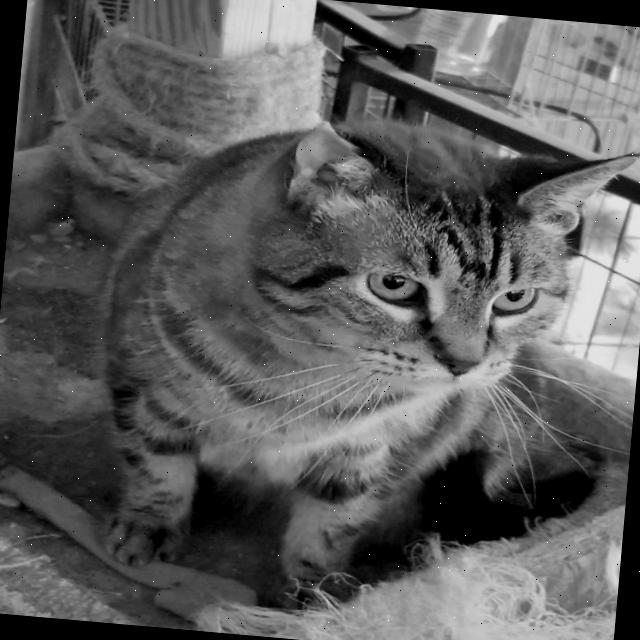american_shorthair_cat: (232, 105, 640, 430)
